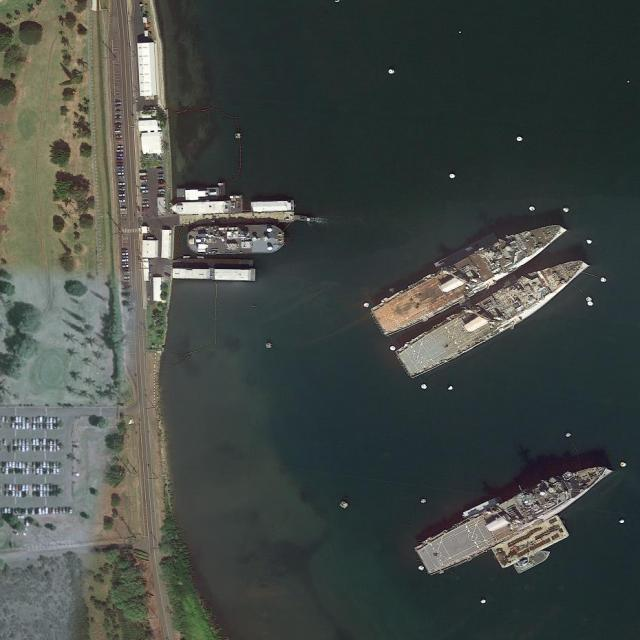Landing: (392, 246, 595, 383), (366, 208, 571, 343), (412, 449, 615, 580)
Other Ship: (186, 224, 285, 257), (511, 545, 553, 575)
